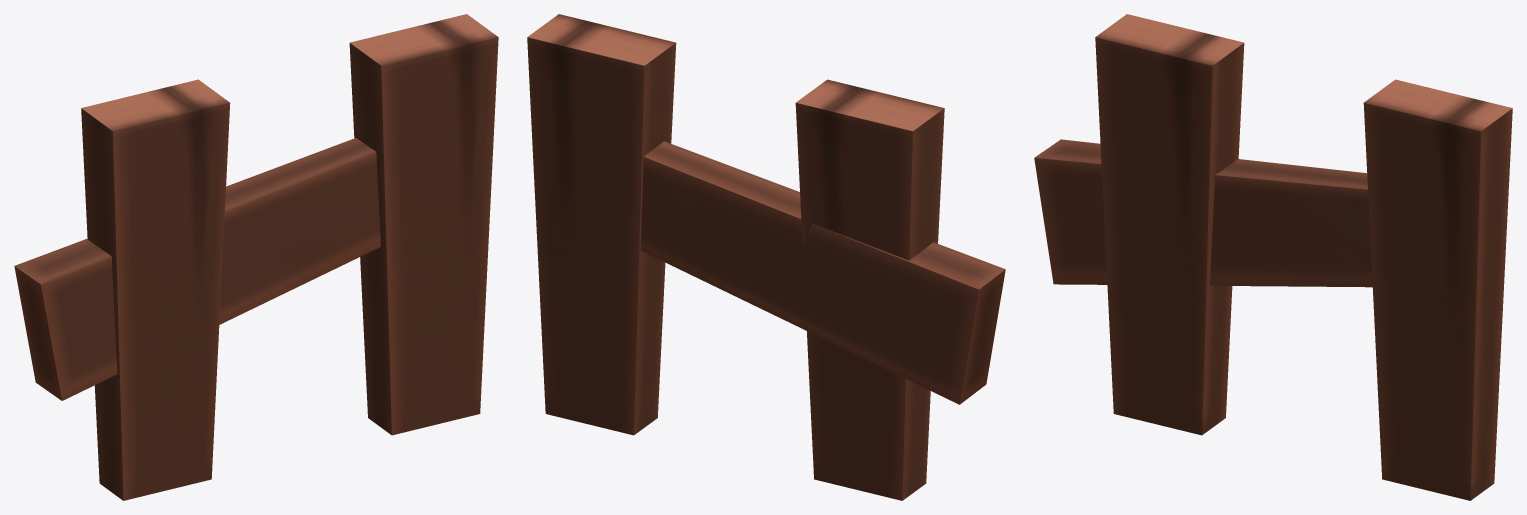
File: 木栅栏.FBX
3 views of the same model, side by side, from view 1: azimuth 30°, elevation 25°; view 2: azimuth 150°, elevation 25°; view 3: azimuth 330°, elevation 25° (orthographic).
Parts seen in each view (by area): view 1: Object002; view 2: Object002; view 3: Object002.
Boxes of the visible parts, left/top/right/bottom form: Object002: left=14, top=14, right=498, bottom=500; Object002: left=527, top=14, right=1005, bottom=500; Object002: left=1034, top=14, right=1512, bottom=500.
Size of the model in its own units: 137 by 108 by 16.78.
